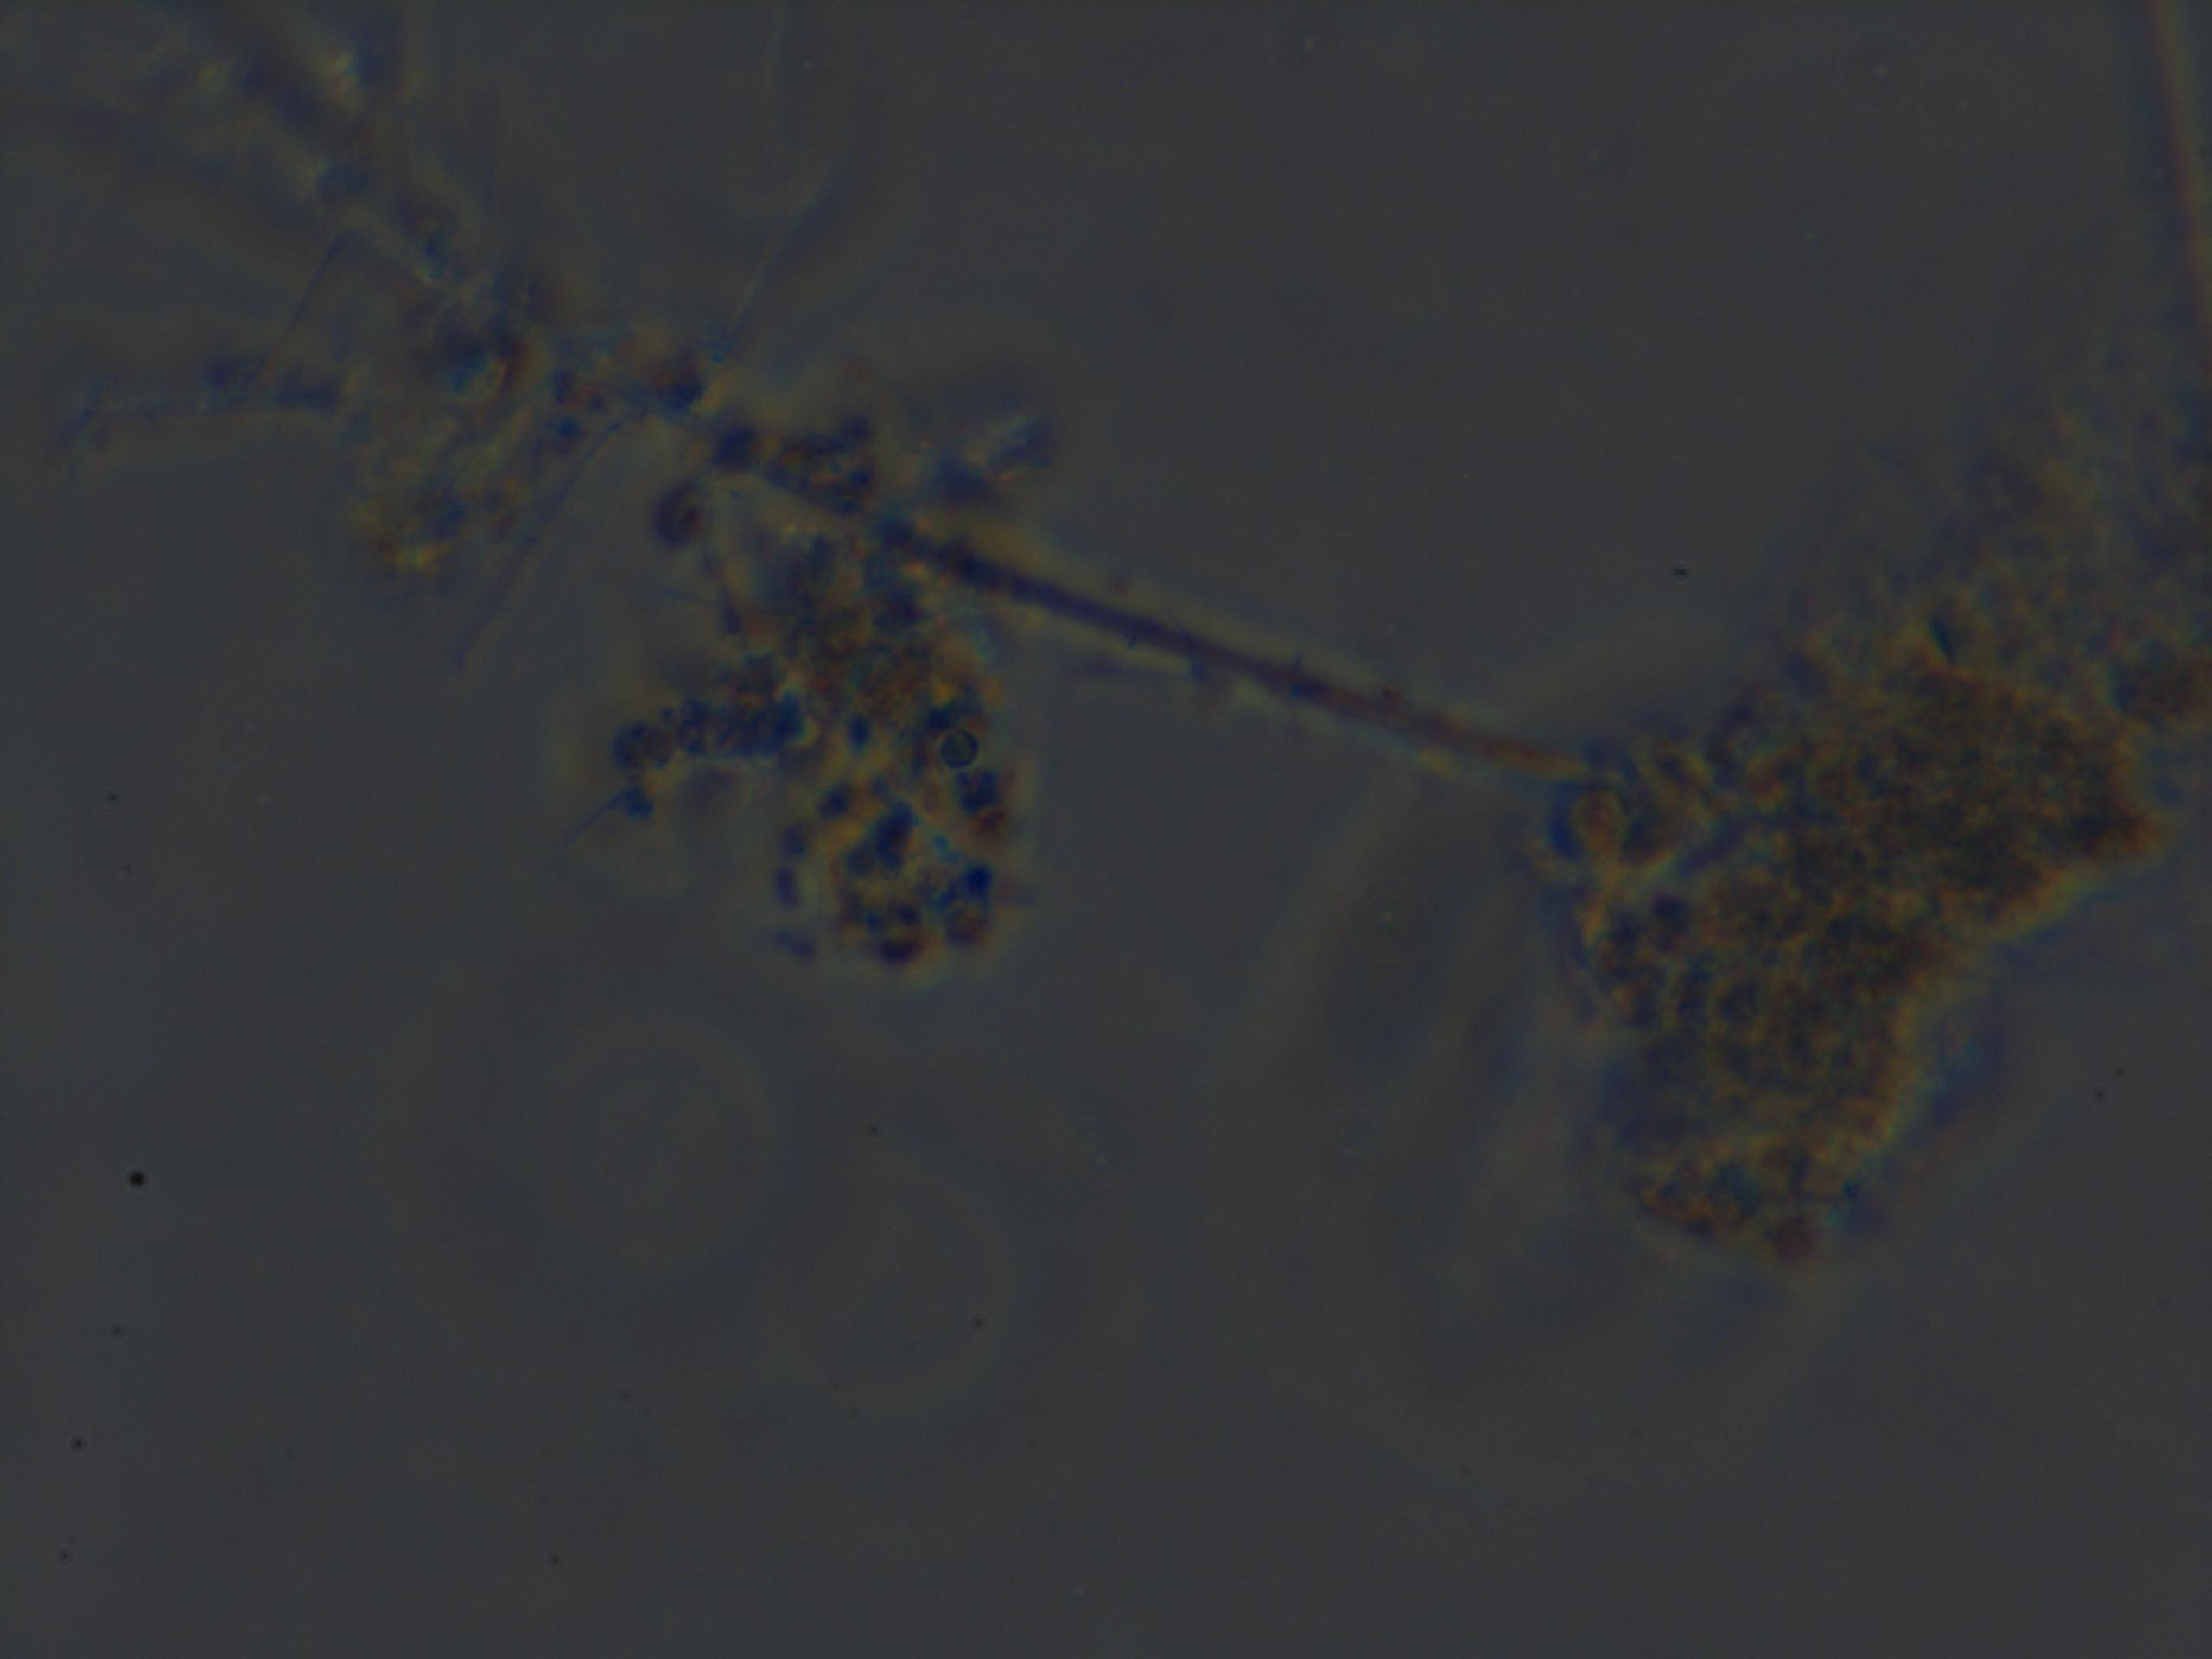filament: (0, 0, 1622, 817)
